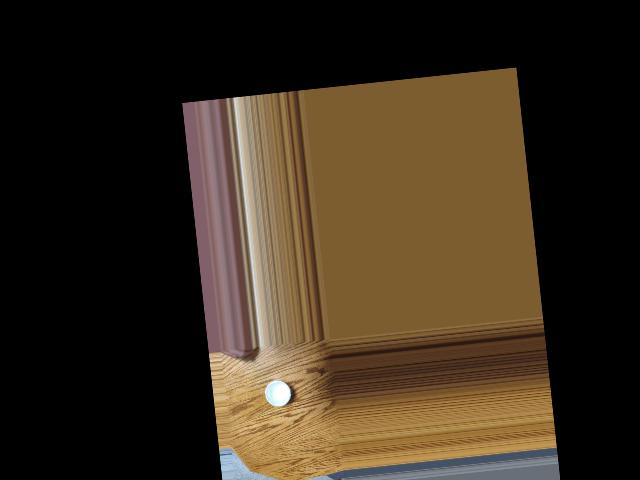cotage: (262, 376, 291, 410)
